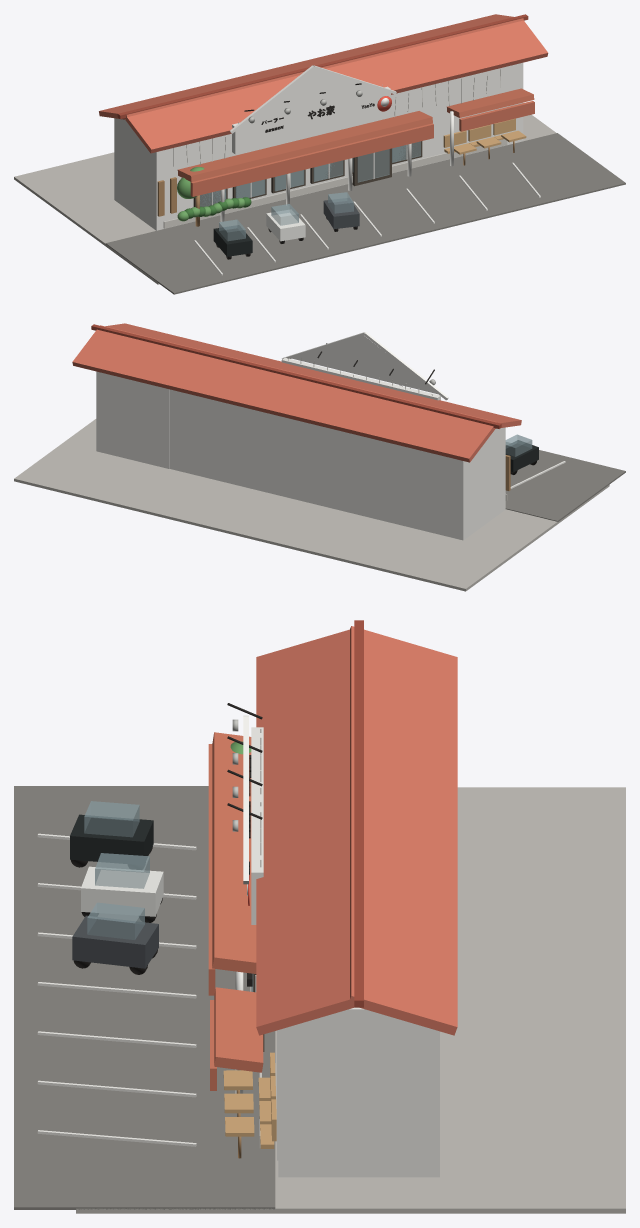
Rendered from parlor_yaoya.glb.
3 renders of one model, top to bottom at view 1: azimuth 30°, elevation 25°; view 2: azimuth 150°, elevation 25°; view 3: azimuth 270°, elevation 25°, orthographic. The views are drawn at different scales.
Visible parts, largest first — view 1: YYC1_Parking, YYC1_CenterRedRoofFront, YYC1_MainWhiteBuilding, YYC1_Ground, YYC1_CenterRedRoofBack, YYC1_LongRedAwning, YYC1_CenterSignWall, YYC1_LongAwningFrontDrop, YYC1_CenterGableWhite, YYC1_FrontLowerShadow, YYC1_CenterRoofRidge, YYC1_RightSmallRedAwning (+18 smaller); view 2: YYC1_MainWhiteBuilding, YYC1_Ground, YYC1_CenterRedRoofBack, YYC1_RightWhiteBlock, YYC1_Parking, YYC1_CenterRedRoofFront, YYC1_CenterGableWhite, YYC1_CenterRoofRidge, YYC1_CenterSignWall, YYC1_BlackCarLeft_Body, YYC1_CenterRoofWhiteTrim_L, YYC1_BlackCarLeft_Cabin; view 3: YYC1_Ground, YYC1_Parking, YYC1_CenterRedRoofBack, YYC1_CenterRedRoofFront, YYC1_RightWhiteBlock, YYC1_LongRedAwning, YYC1_CenterRoofRidge, YYC1_DarkCarRight_Body, YYC1_RightSmallRedAwning, YYC1_BlackCarLeft_Body, YYC1_WhiteCarCenter_Body, YYC1_CenterSignWall (+5 smaller).
Boxes of the visible parts, bbox=[...] form: YYC1_Parking: bbox=[105, 133, 625, 294]; YYC1_CenterRedRoofFront: bbox=[125, 20, 548, 153]; YYC1_MainWhiteBuilding: bbox=[114, 67, 505, 230]; YYC1_Ground: bbox=[14, 114, 556, 284]; YYC1_CenterRedRoofBack: bbox=[99, 14, 523, 119]; YYC1_LongRedAwning: bbox=[177, 111, 432, 181]; YYC1_CenterSignWall: bbox=[232, 86, 390, 154]; YYC1_LongAwningFrontDrop: bbox=[190, 123, 433, 196]; YYC1_CenterGableWhite: bbox=[242, 69, 384, 126]; YYC1_FrontLowerShadow: bbox=[163, 139, 507, 228]; YYC1_CenterRoofRidge: bbox=[117, 14, 528, 118]; YYC1_RightSmallRedAwning: bbox=[447, 88, 534, 117]; YYC1_MainWhiteBuilding: bbox=[169, 389, 505, 540]; YYC1_Ground: bbox=[14, 419, 609, 591]; YYC1_CenterRedRoofBack: bbox=[72, 325, 496, 462]; YYC1_RightWhiteBlock: bbox=[96, 371, 169, 468]; YYC1_Parking: bbox=[505, 442, 625, 521]; YYC1_CenterRedRoofFront: bbox=[105, 323, 521, 428]; YYC1_CenterGableWhite: bbox=[292, 336, 437, 394]; YYC1_CenterRoofRidge: bbox=[91, 324, 501, 428]; YYC1_CenterSignWall: bbox=[281, 357, 440, 400]; YYC1_BlackCarLeft_Body: bbox=[505, 440, 538, 472]; YYC1_CenterRoofWhiteTrim_L: bbox=[364, 332, 448, 400]; YYC1_BlackCarLeft_Cabin: bbox=[505, 434, 532, 456]; YYC1_Ground: bbox=[76, 787, 625, 1213]; YYC1_Parking: bbox=[14, 786, 275, 1209]; YYC1_CenterRedRoofBack: bbox=[348, 626, 457, 1035]; YYC1_CenterRedRoofFront: bbox=[256, 629, 365, 1035]; YYC1_RightWhiteBlock: bbox=[278, 1007, 439, 1177]; YYC1_LongRedAwning: bbox=[212, 732, 256, 973]; YYC1_CenterRoofRidge: bbox=[354, 620, 363, 1007]; YYC1_DarkCarRight_Body: bbox=[72, 915, 158, 968]; YYC1_RightSmallRedAwning: bbox=[214, 987, 263, 1072]; YYC1_BlackCarLeft_Body: bbox=[70, 814, 153, 864]; YYC1_WhiteCarCenter_Body: bbox=[81, 866, 163, 916]; YYC1_CenterSignWall: bbox=[251, 727, 263, 924].
Size of the model in its own units: 14.5 by 4.22 by 8.9.
